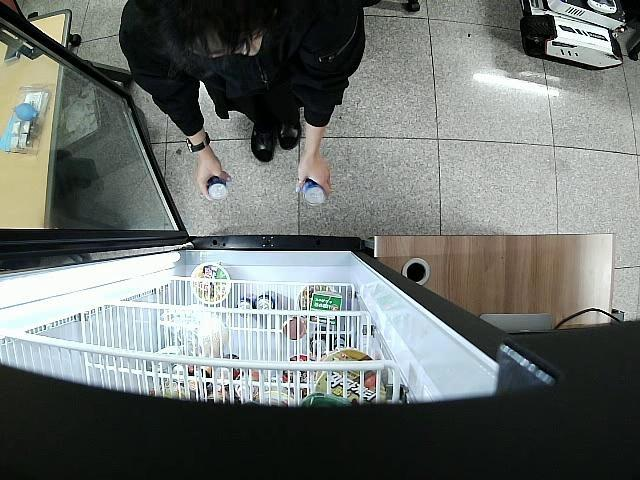15_letsbe: (302, 178, 326, 206), (207, 176, 228, 200)
